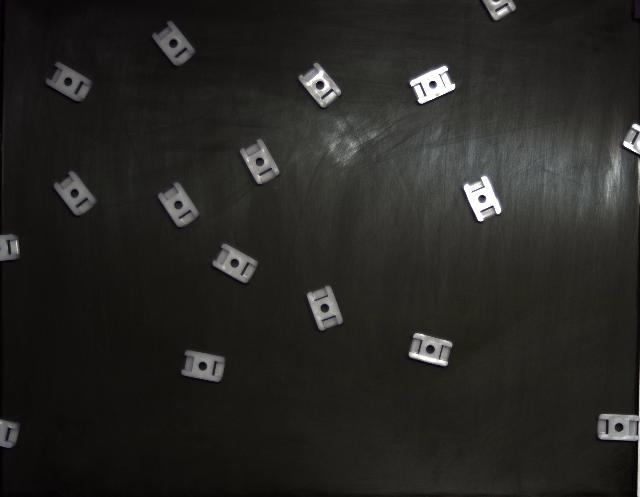second_side: (152, 21, 196, 66), (54, 171, 98, 216), (158, 182, 200, 228), (299, 62, 341, 108), (46, 62, 92, 102), (212, 244, 258, 284), (240, 140, 280, 185), (410, 66, 455, 104), (464, 176, 501, 222), (308, 286, 342, 331), (409, 334, 452, 368), (181, 351, 225, 382)
